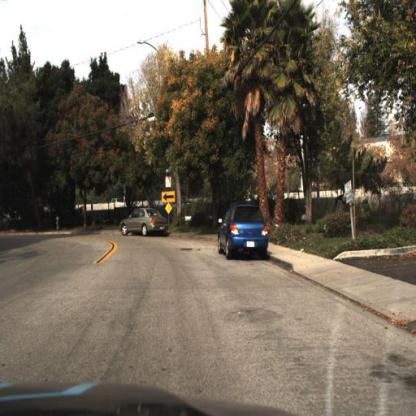car: (214, 199, 273, 263), (119, 206, 170, 237)
